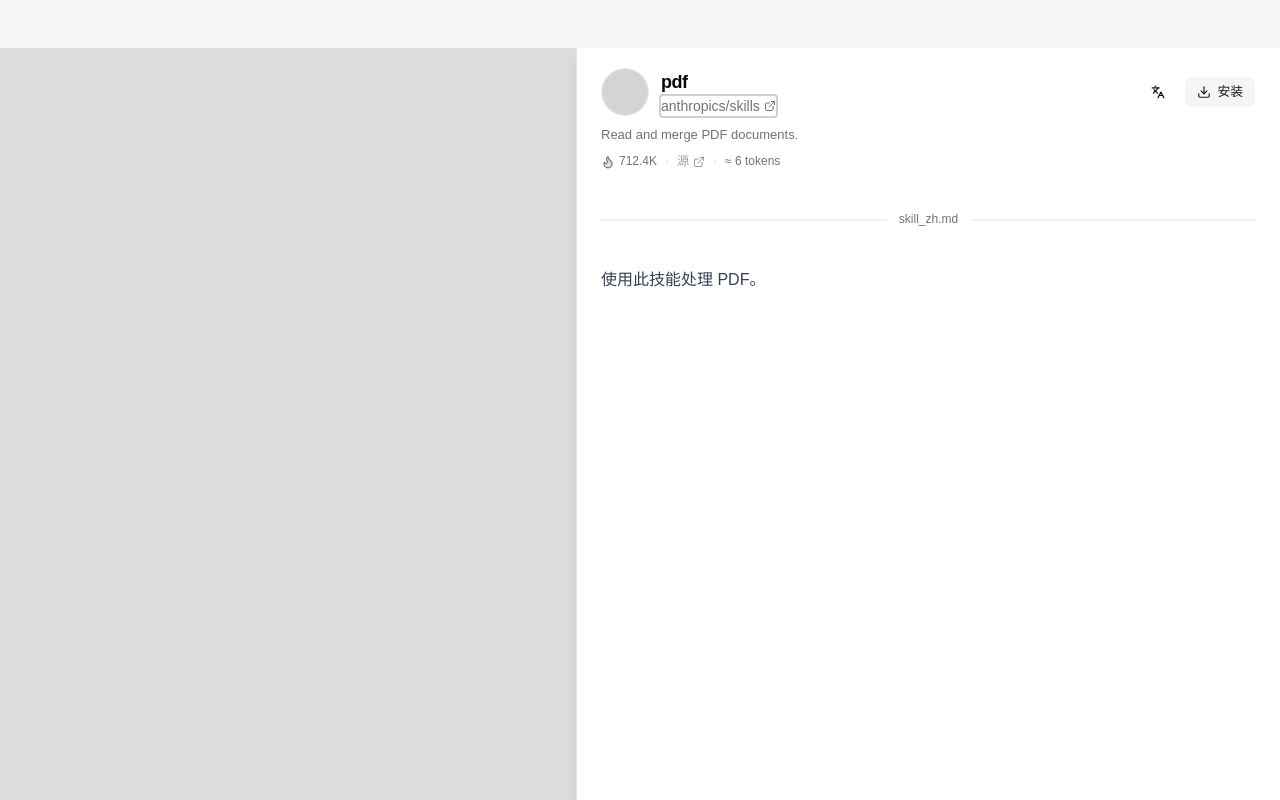
Test: SkillDetailPanel Chinese page › fetches the English original on the first flip to the original and caches it
Expected: the text "使用此技能处理 PDF。" is shown, [601, 271, 766, 288]
Click the button named "原文" at coordinates (1158, 92), box [1144, 78, 1172, 106]
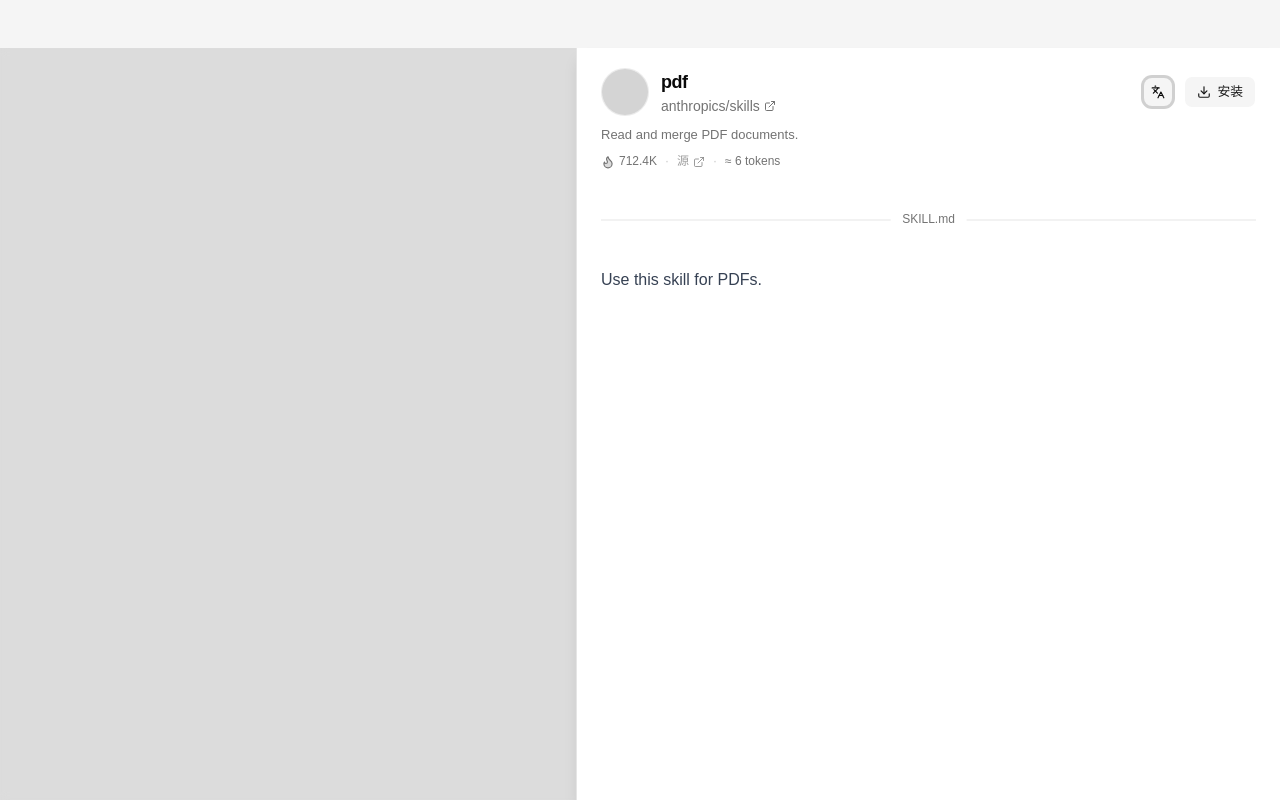
Expected: the text "Use this skill for PDFs." is shown, [601, 271, 762, 288]
Expected: the text "使用此技能处理 PDF。" is gone
Expected: the text "SKILL.md" is shown, [890, 212, 967, 229]
# Flipping back — and forth again — rides the cache: no second request.
Click the button named "原文" at coordinates (1158, 92), box [1144, 78, 1172, 106]
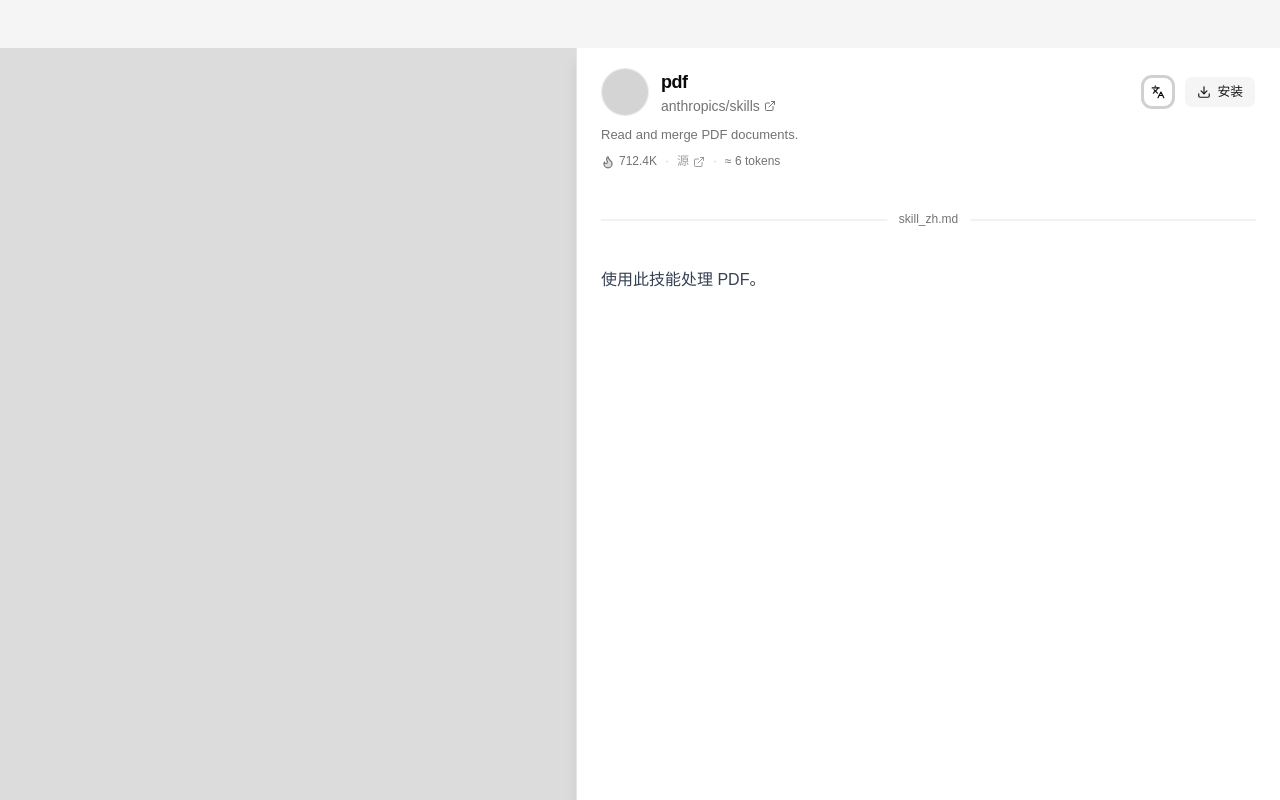
Expected: the text "使用此技能处理 PDF。" is shown, [601, 271, 766, 288]
Click the button named "原文" at coordinates (1158, 92), box [1144, 78, 1172, 106]
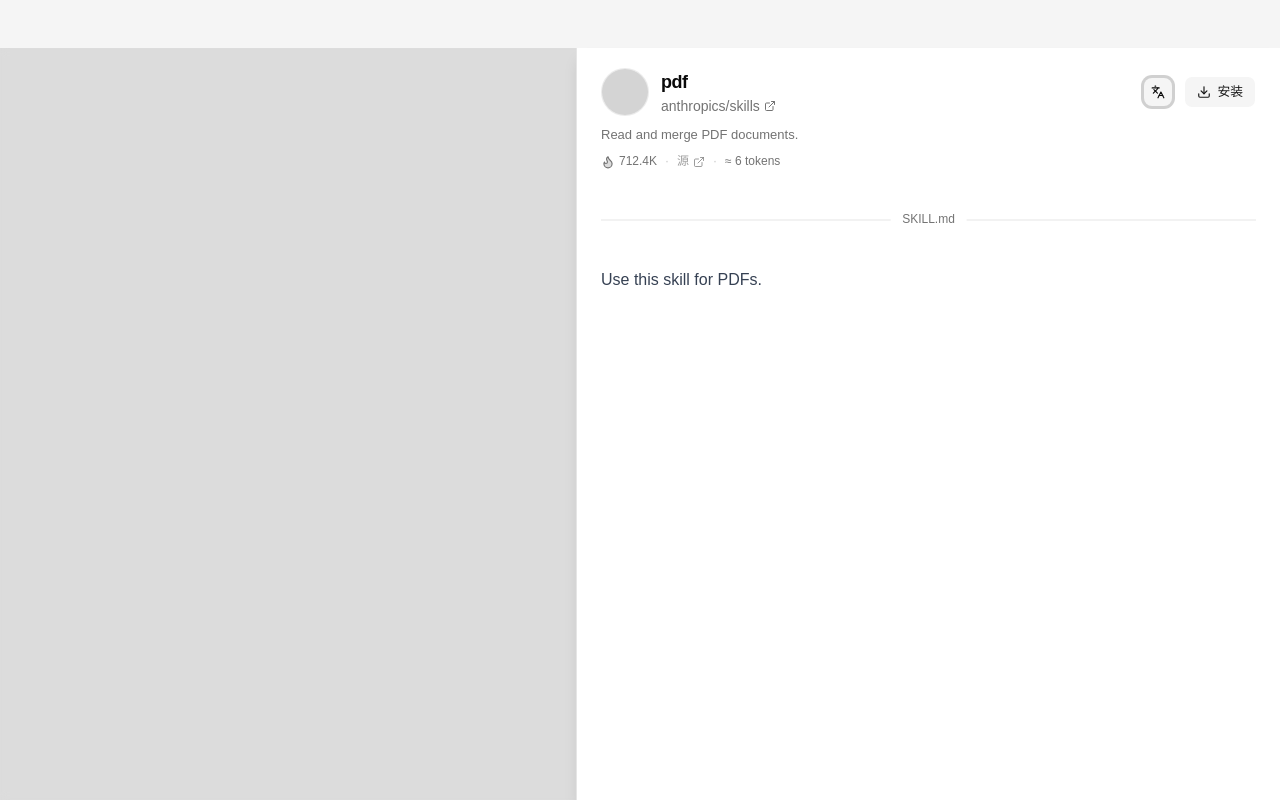
Expected: the text "Use this skill for PDFs." is shown, [601, 271, 762, 288]
